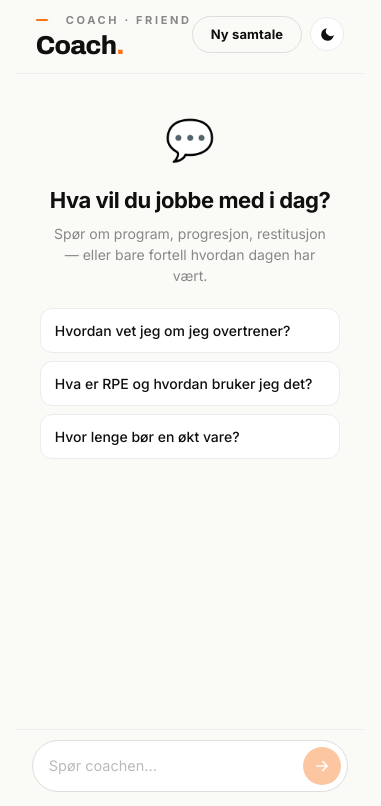
Test: CoachClient › sends user message and streams reply
Type "hei coach" into the field with placeholder "Spør coachen...". click: (171, 766)
box: [49,755,293,777]
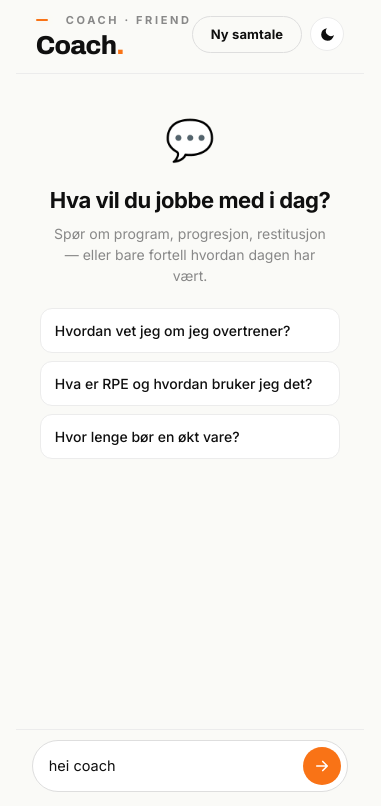
Click the button named "send melding". click: (322, 766)
box: [303,747,341,785]
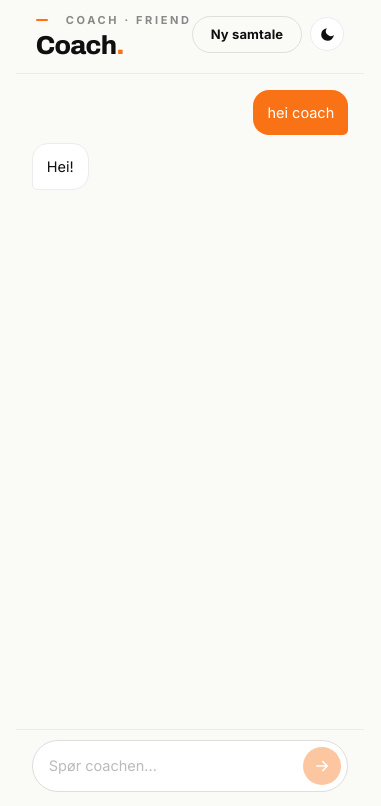
Check: the text "hei coach" is shown, box [254,90,348,135]
Check: the text "Hei!" is shown, box [32,143,89,190]
